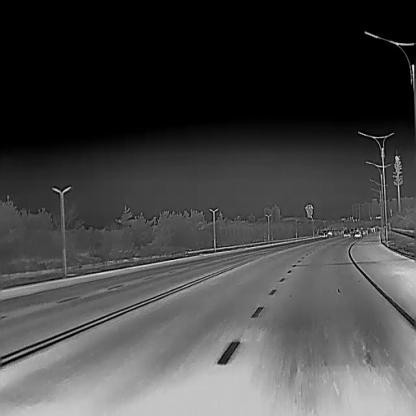car: (353, 228, 362, 238), (342, 228, 350, 236)
